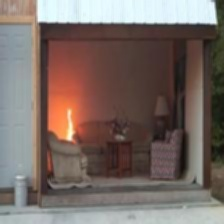fire: (59, 108, 80, 140)
